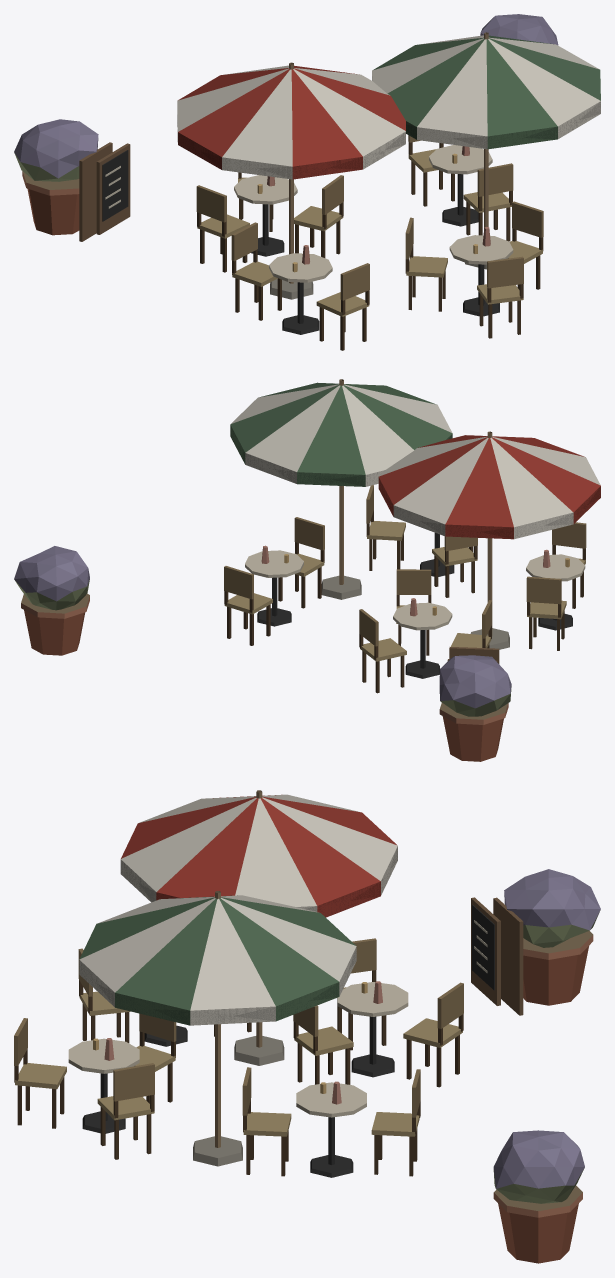
File: cafe.glb
3 renders of one model, top to bottom at view 1: azimuth 30°, elevation 25°; view 2: azimuth 150°, elevation 25°; view 3: azimuth 270°, elevation 25°, orthographic. The views are drawn at different scales.
Visible parts, largest first — view 1: cafe_terrace; view 2: cafe_terrace; view 3: cafe_terrace.
Part boxes in pixels (left/top/right/bottom): cafe_terrace: left=14, top=14, right=600, bottom=350; cafe_terrace: left=14, top=379, right=600, bottom=761; cafe_terrace: left=14, top=790, right=600, bottom=1263.
Bounding box in the file's own units: 6.9 × 2.8 × 5.68.
